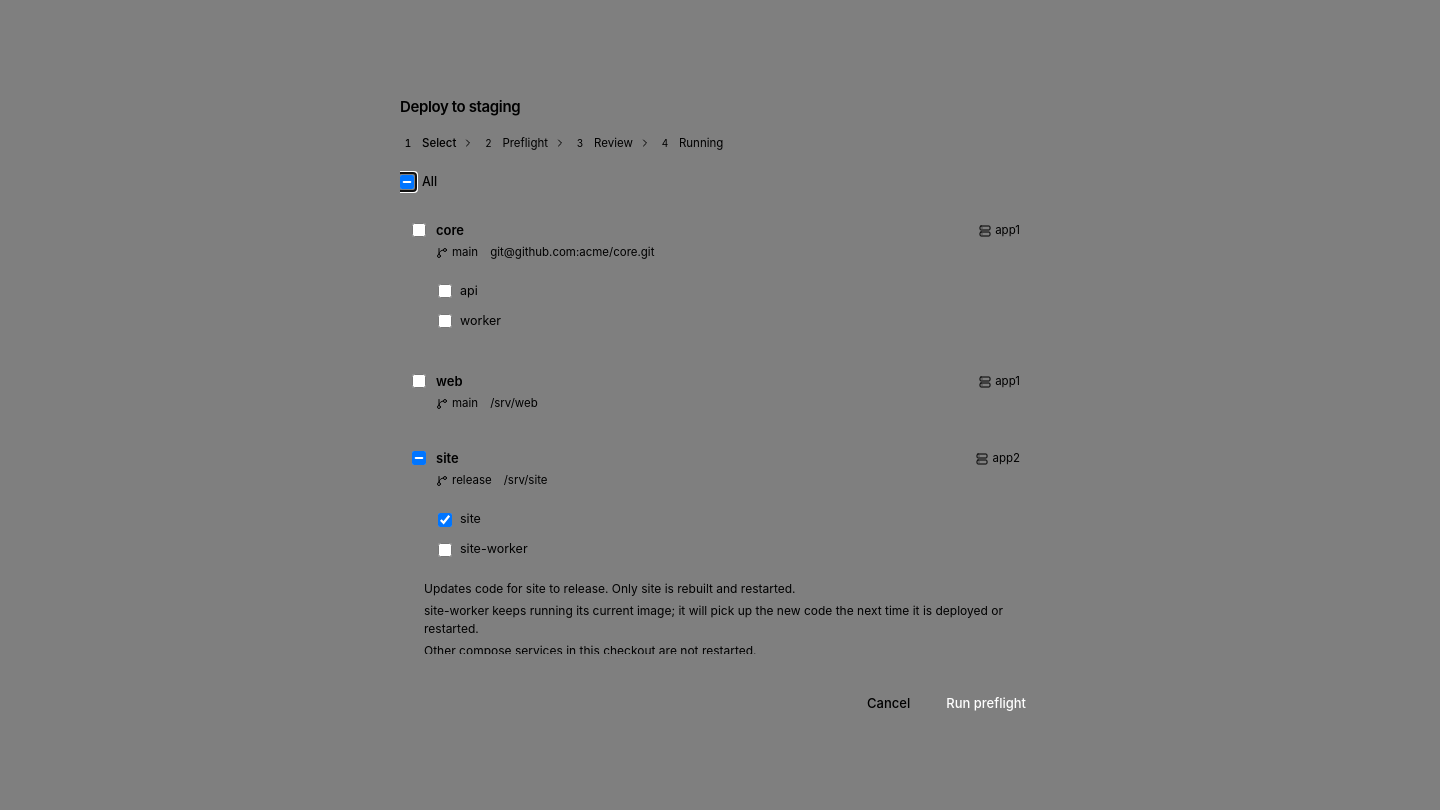
Test: deploy wizard › without composeDatabases no database rows appear
What coordinates should you click on to do the following:
click the button "Run preflight"
I would click on:
 (986, 704)
Its box is top-left (932, 686), bottom-right (1040, 722).
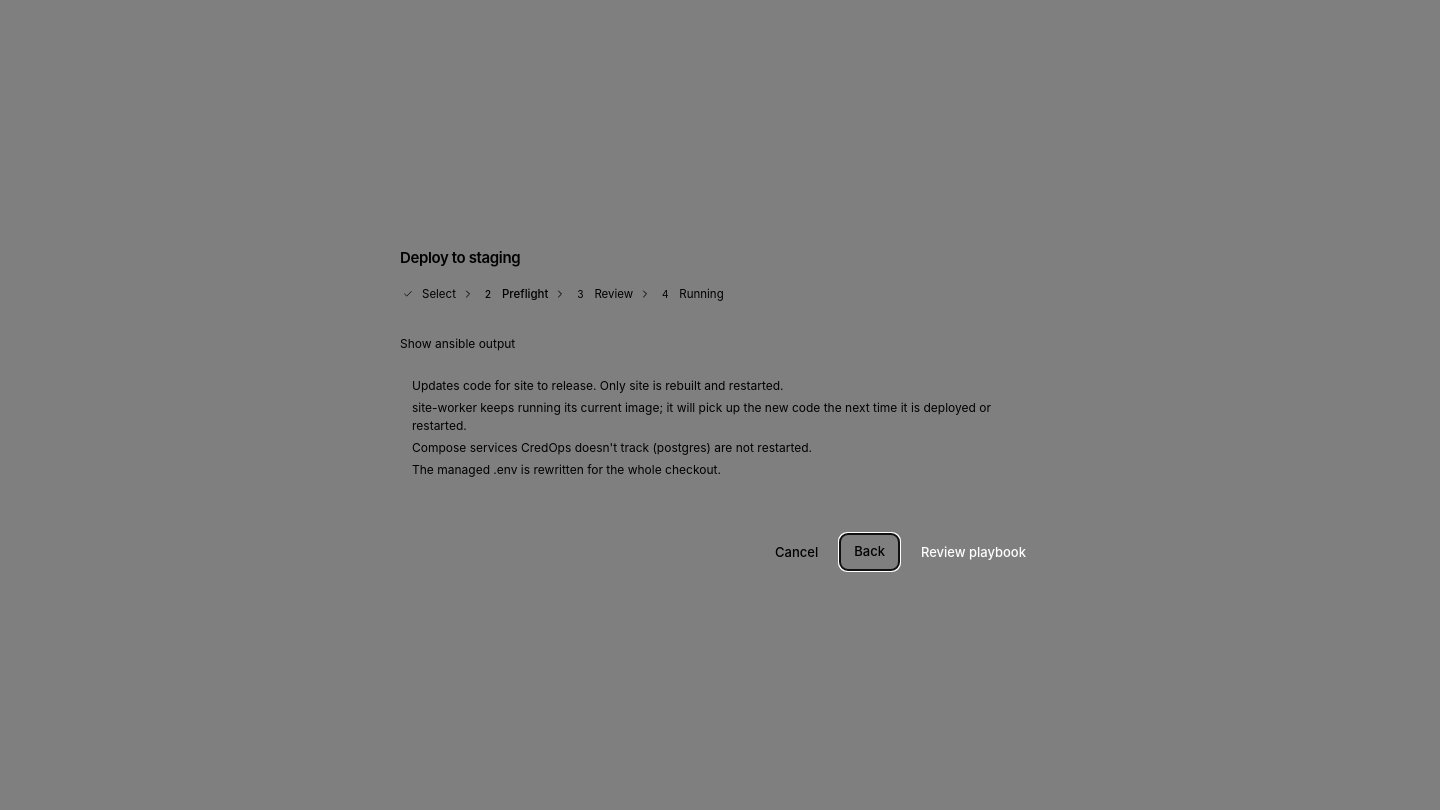
Expected: the list item "Compose services CredOps doesn't track (postgres) are not restarted." is shown, top-left (412, 440), bottom-right (812, 455)
